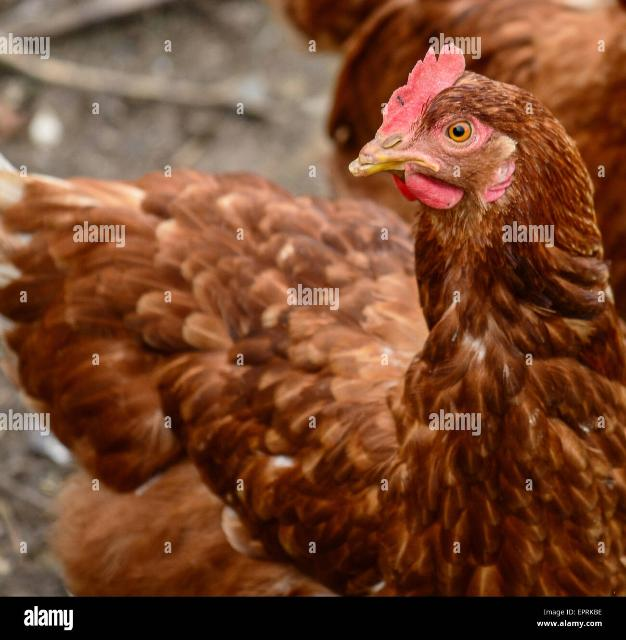Chicken: (3, 36, 626, 597)
